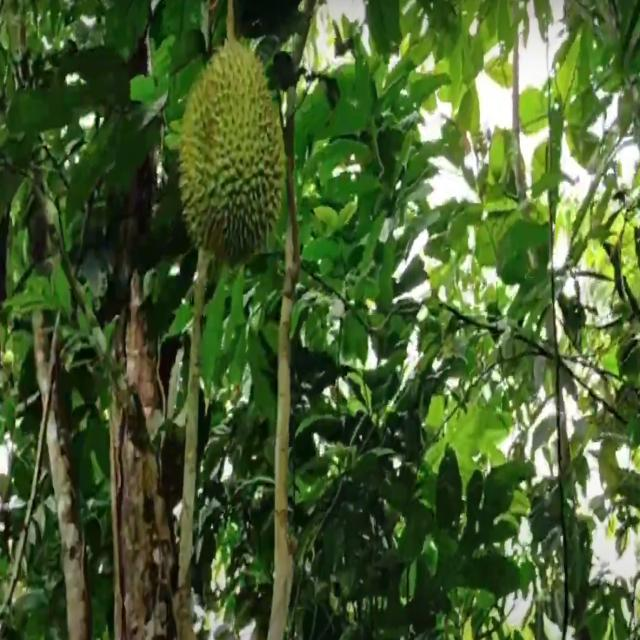immature: (178, 36, 283, 267)
